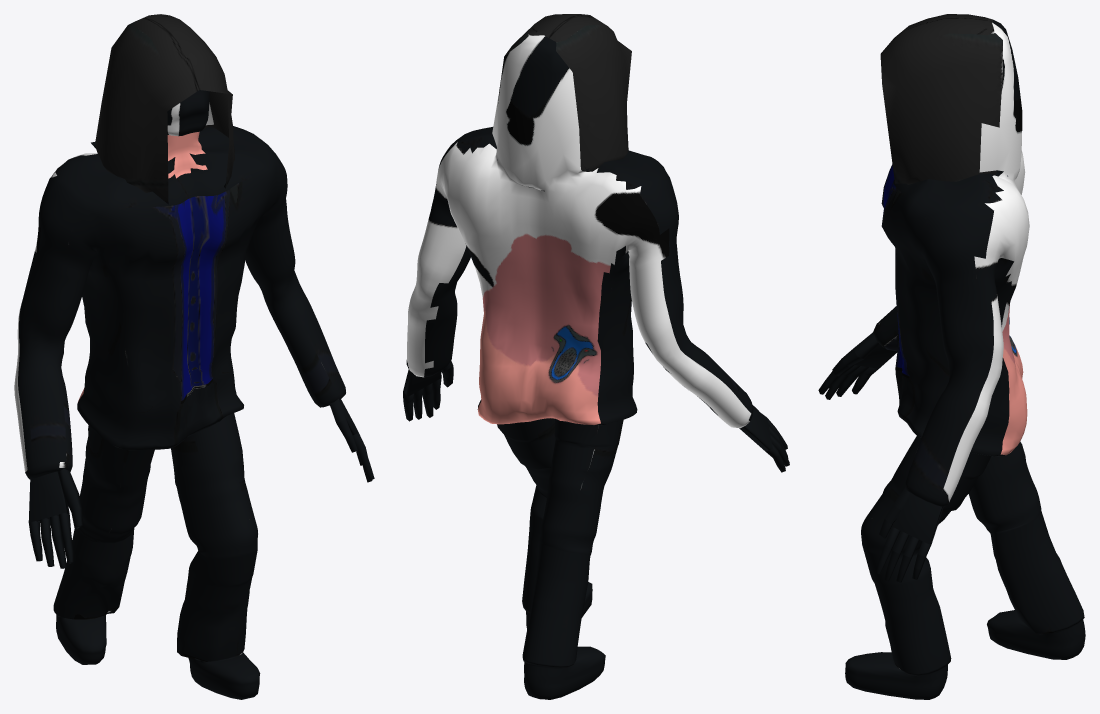
File: keyFrame03.obj
The picture shows the model from 3 angles, left to right: view 1: azimuth 30°, elevation 25°; view 2: azimuth 150°, elevation 25°; view 3: azimuth 270°, elevation 25°; orthographic projection. The views are drawn at different scales.
Visible parts, largest first — view 1: pasted__polySurface71 group4; view 2: pasted__polySurface71 group4; view 3: pasted__polySurface71 group4.
Boxes of the visible parts, x1,y1,x2,y2 form: pasted__polySurface71 group4: (14, 14, 374, 699); pasted__polySurface71 group4: (403, 14, 789, 699); pasted__polySurface71 group4: (818, 14, 1085, 699).
Size of the model in its own units: 7.28 by 12.66 by 4.64.
1 material, 1 textured.
